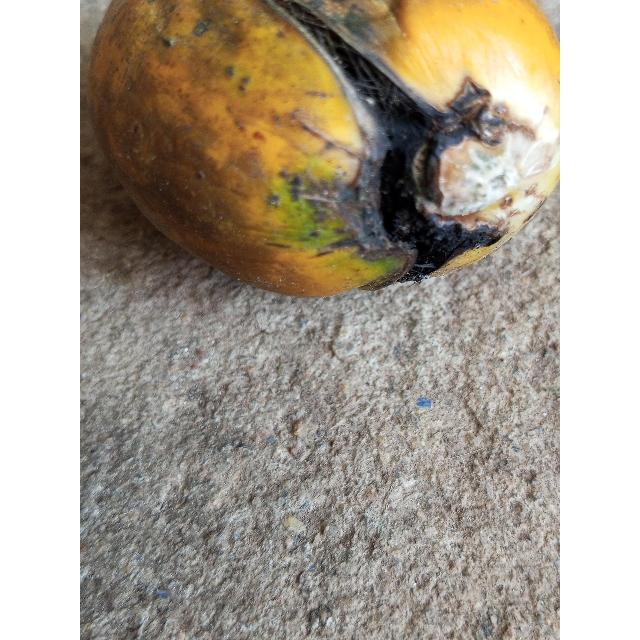damaged: (86, 0, 560, 301)
